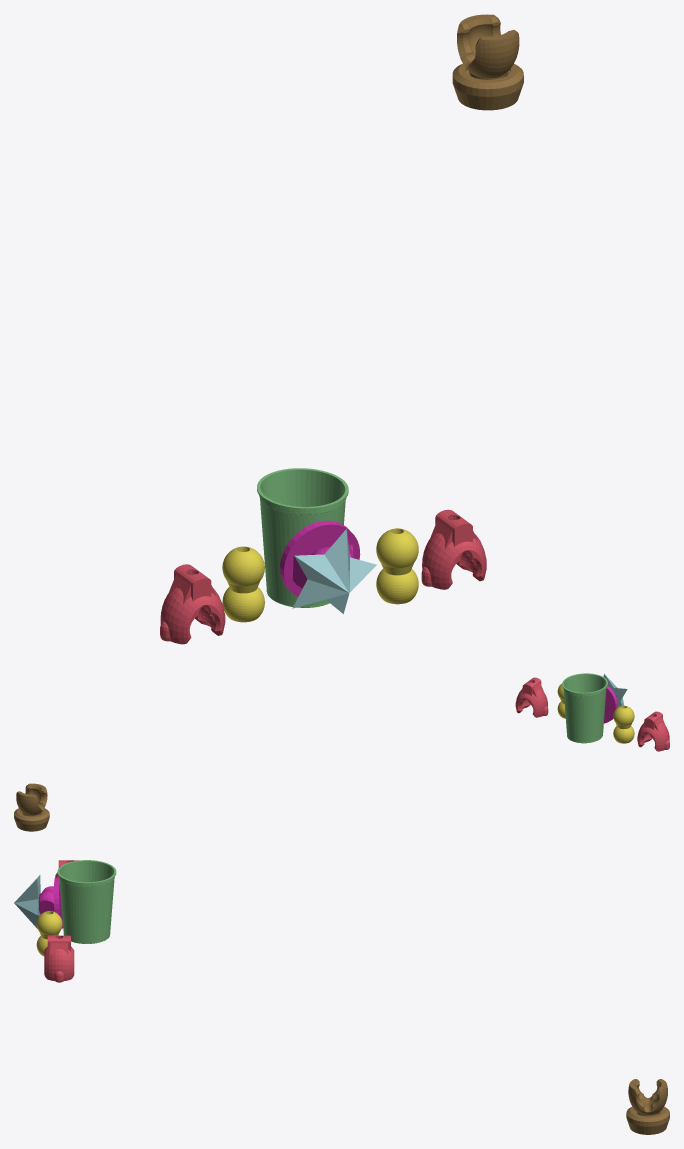
Rendered from drone-updated.glb.
The picture shows the model from 3 angles, top to bottom: view 1: azimuth 30°, elevation 25°; view 2: azimuth 150°, elevation 25°; view 3: azimuth 270°, elevation 25°; orthographic projection. The views are drawn at different scales.
Parts seen in each view (by area): view 1: Mesh_Mesh_head_geo.001_lambert2SG.001; view 2: Mesh_Mesh_head_geo.001_lambert2SG.001; view 3: Mesh_Mesh_head_geo.001_lambert2SG.001.
Boxes of the visible parts, left/top/right/bottom form: Mesh_Mesh_head_geo.001_lambert2SG.001: left=160, top=14, right=523, bottom=644; Mesh_Mesh_head_geo.001_lambert2SG.001: left=14, top=673, right=669, bottom=831; Mesh_Mesh_head_geo.001_lambert2SG.001: left=14, top=860, right=669, bottom=1134.
Bounding box in the file's own units: 226 × 27.09 × 253.
